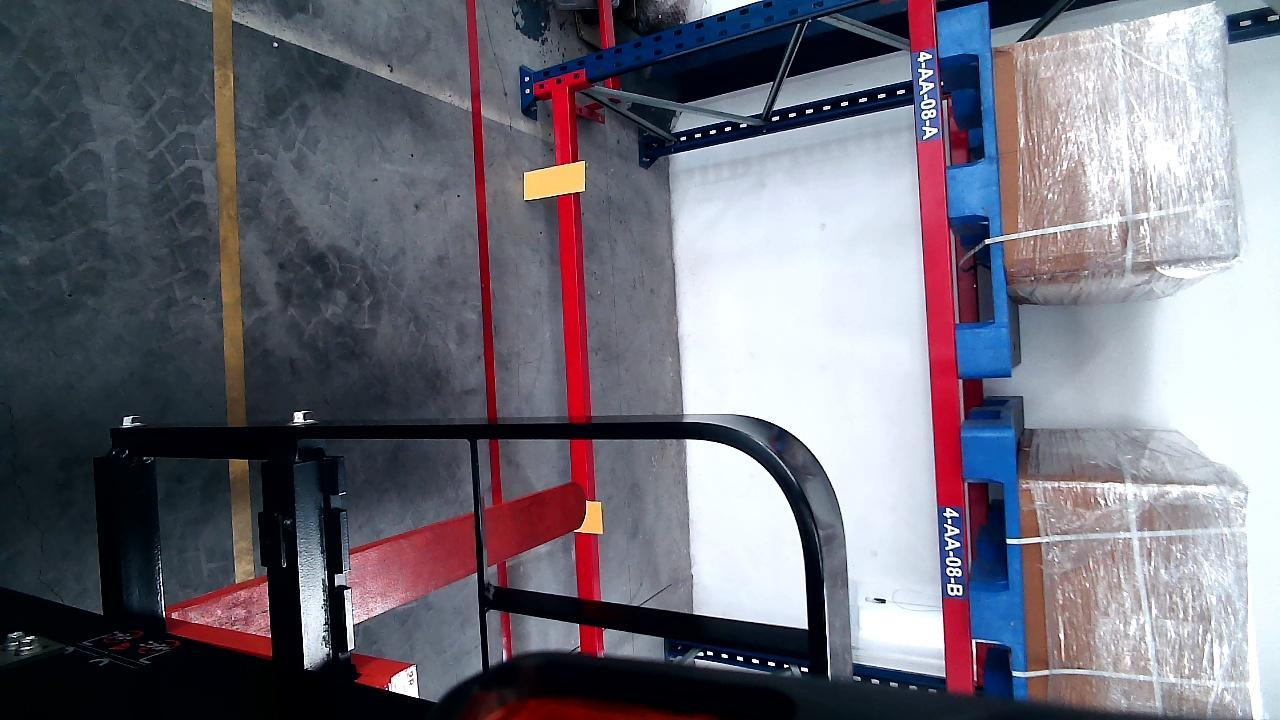yellow_line: (215, 0, 254, 586)
